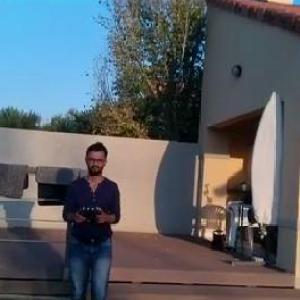follow: (59, 134, 127, 299)
